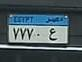0: (34, 30, 43, 40)
7: (25, 26, 34, 40), (18, 26, 26, 38), (14, 26, 20, 39)
ع: (46, 25, 60, 42)
